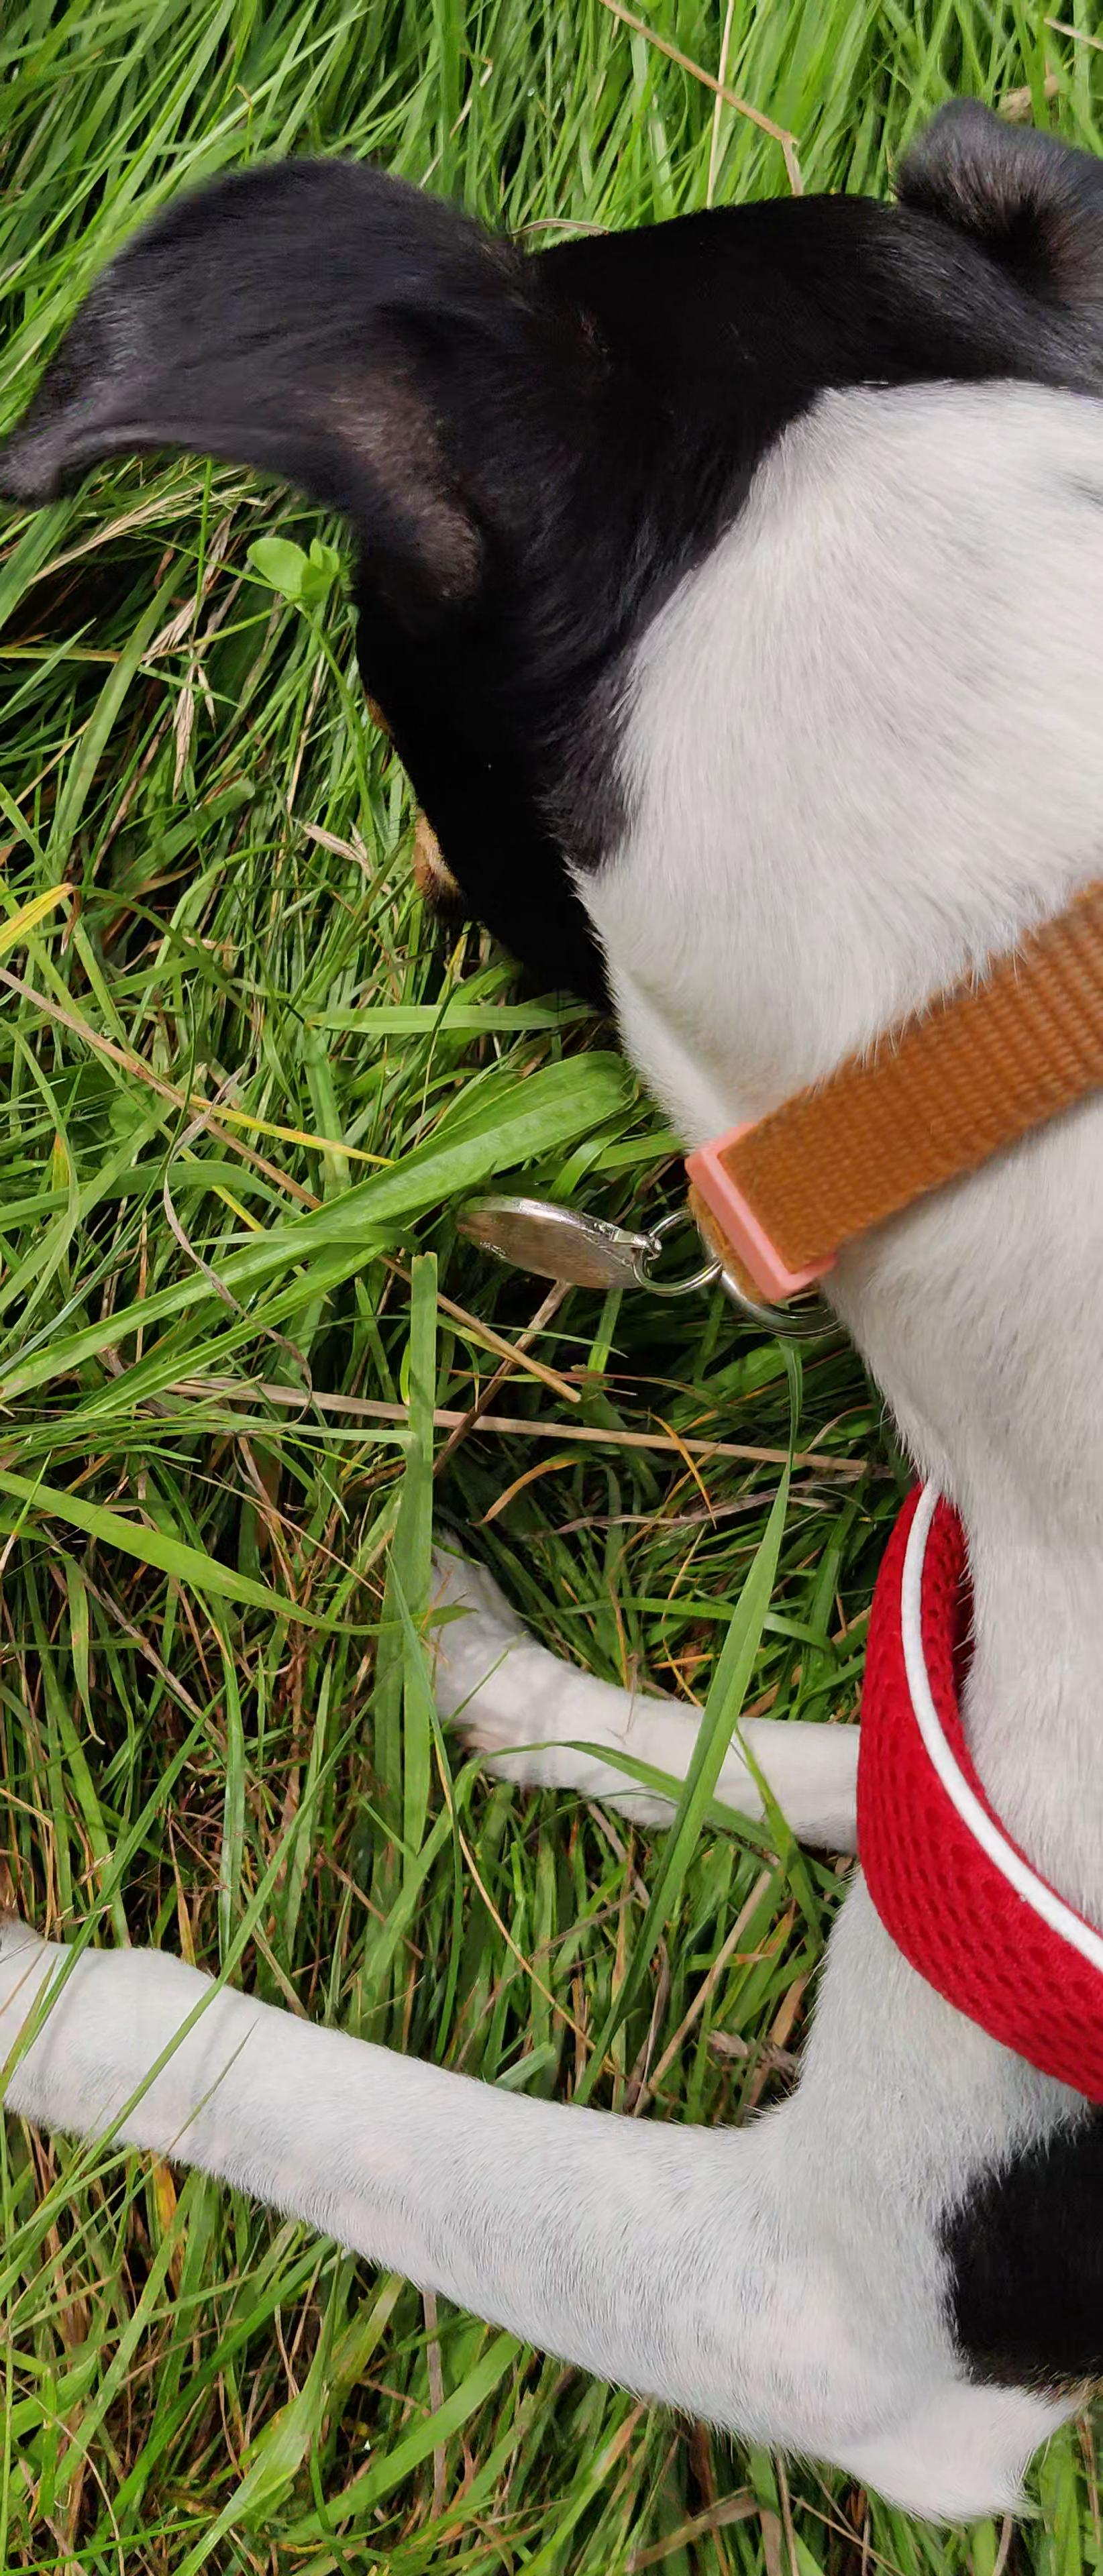Dog: (0, 90, 1103, 2528)
